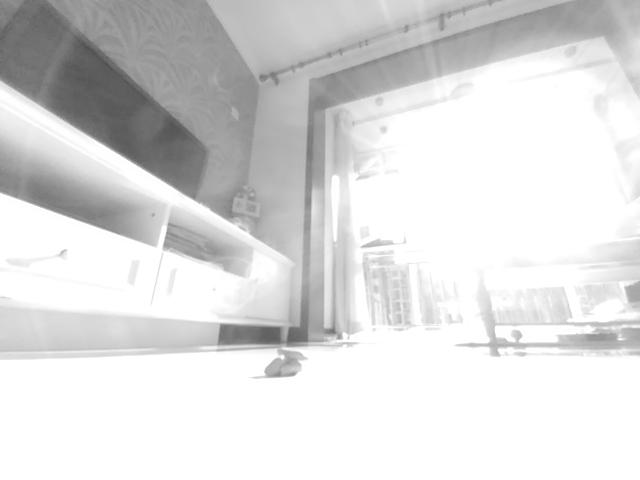curtain: (331, 110, 369, 340)
pet feces: (263, 347, 307, 378)
